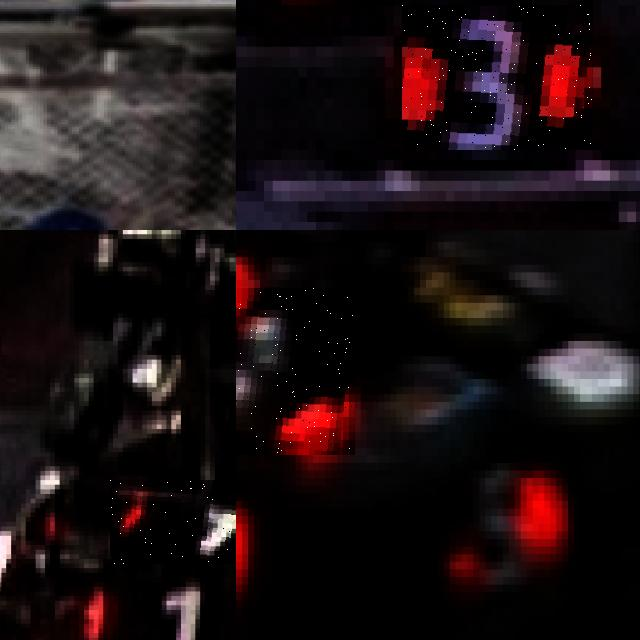R1: (67, 566, 236, 640), (110, 480, 236, 563)
R3: (402, 5, 593, 150)
R5: (236, 287, 354, 455), (438, 463, 574, 600)
